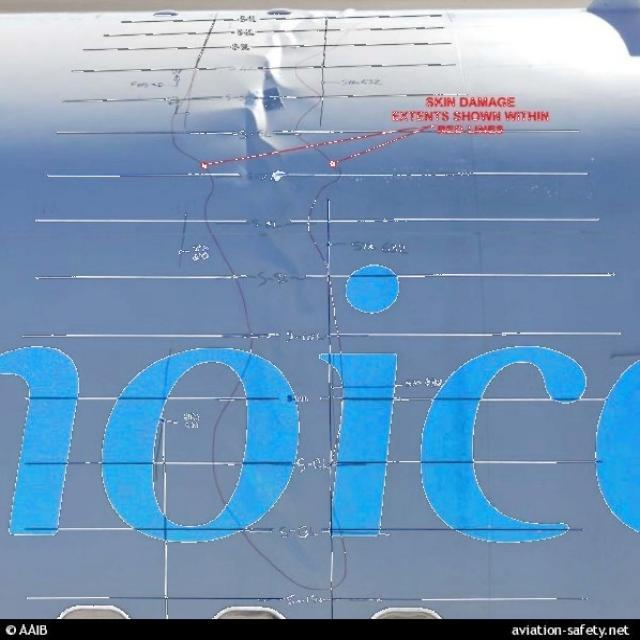dent: (196, 106, 285, 184), (245, 18, 301, 96), (287, 19, 317, 42)
